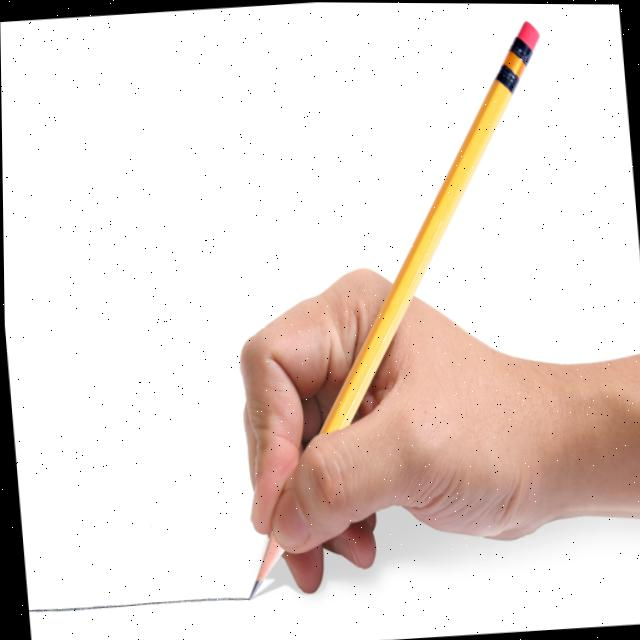pencil: (319, 21, 538, 432), (247, 531, 283, 596)
